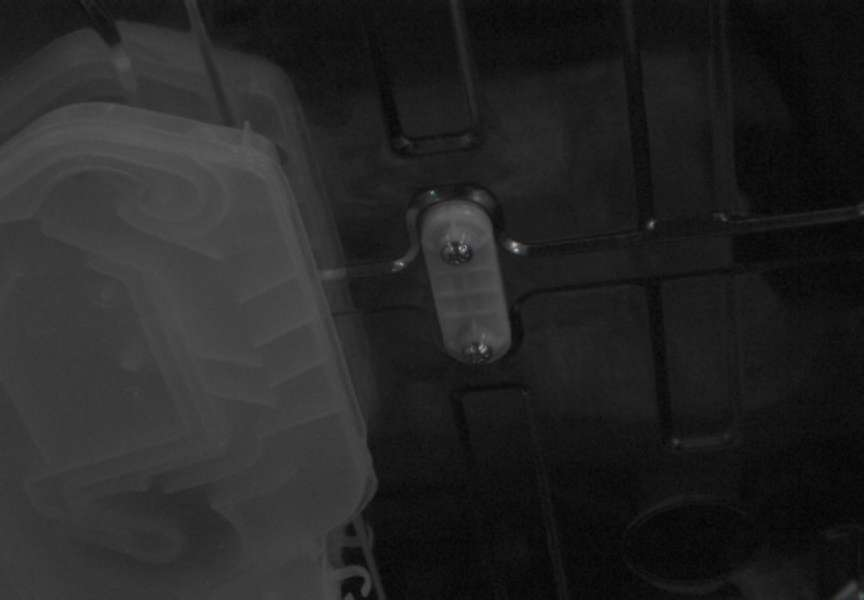screw: (441, 241, 473, 266), (463, 342, 494, 365)
